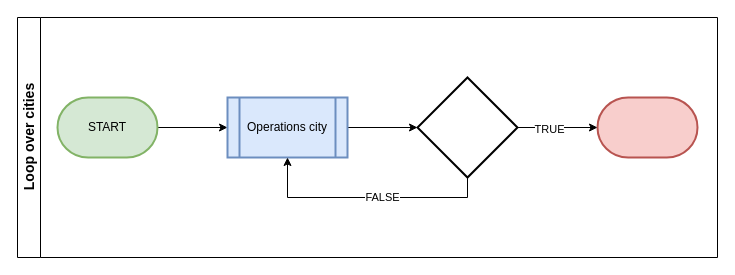
Some shapes in this 735 by 275 pixel diagram are drawn without their labels. Each missing label, with the centre of its shape:
"END" goes at pixel 647 127.
"Is last city?" goes at pixel 467 127.
